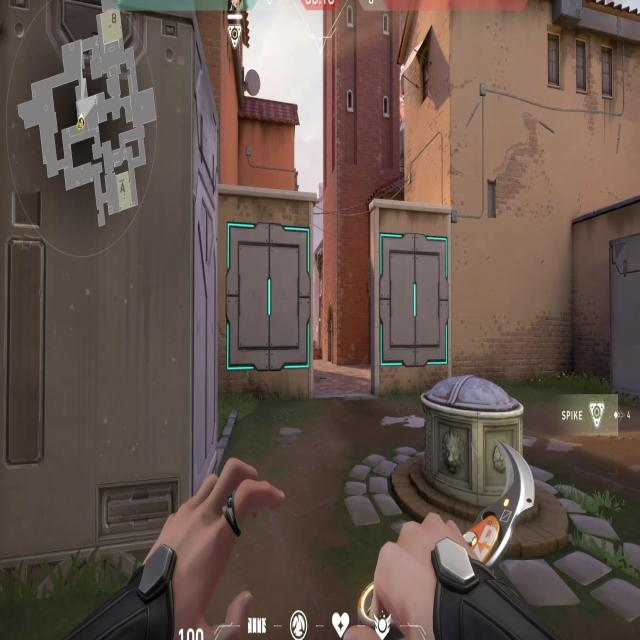Mid_Wall: (219, 188, 312, 406), (370, 199, 452, 394)
